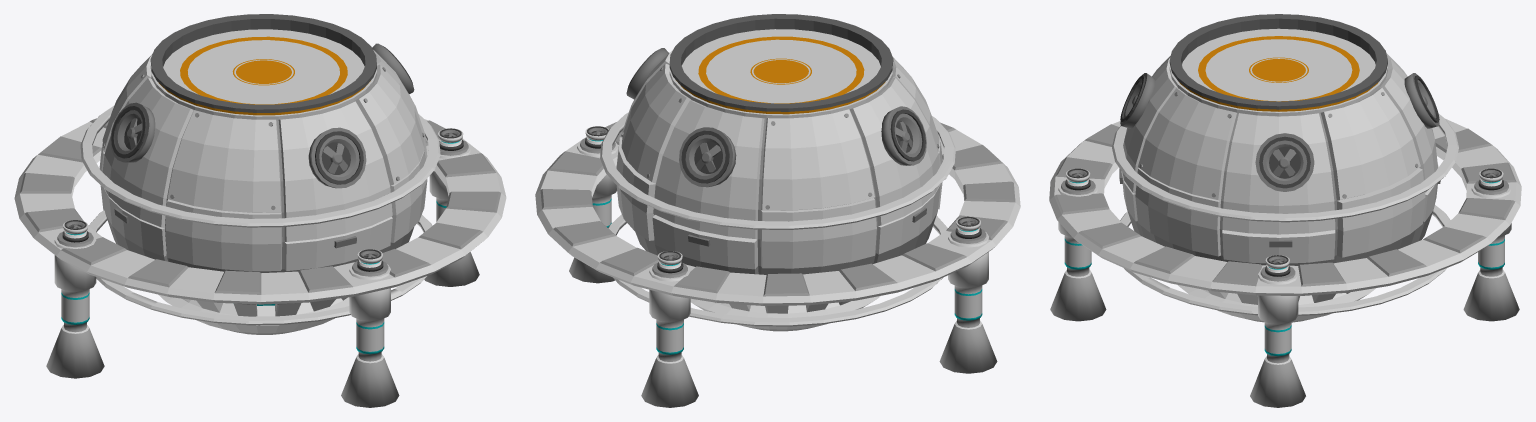
Rendered from Factory_Boss_Tower.fbx.
3 views of the same model, side by side, from view 1: azimuth 30°, elevation 25°; view 2: azimuth 150°, elevation 25°; view 3: azimuth 270°, elevation 25° (orthographic). The views are drawn at different scales.
Visible parts, largest first — view 1: Factory_Boss_Tower; view 2: Factory_Boss_Tower; view 3: Factory_Boss_Tower.
Boxes of the visible parts, box(x1,y1,x2,y2) form: Factory_Boss_Tower: box(14, 14, 506, 407); Factory_Boss_Tower: box(535, 14, 1020, 407); Factory_Boss_Tower: box(1049, 14, 1521, 407).
Size of the model in its own units: 144 by 83.54 by 144.
